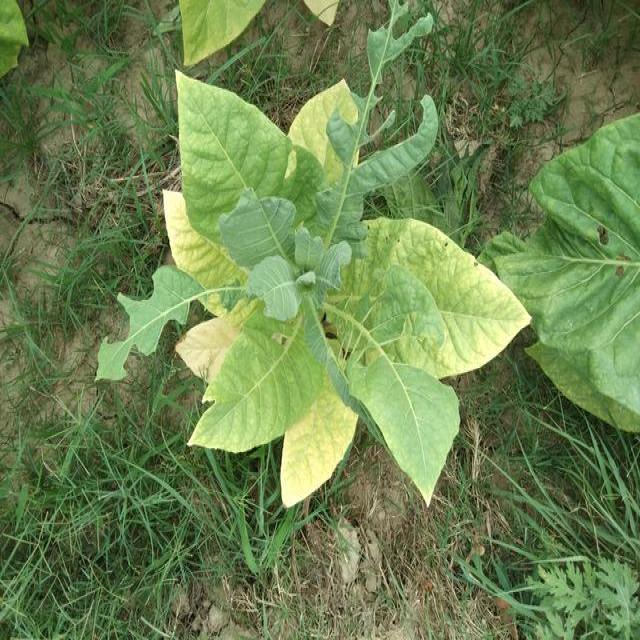crop: (142, 54, 537, 522)
